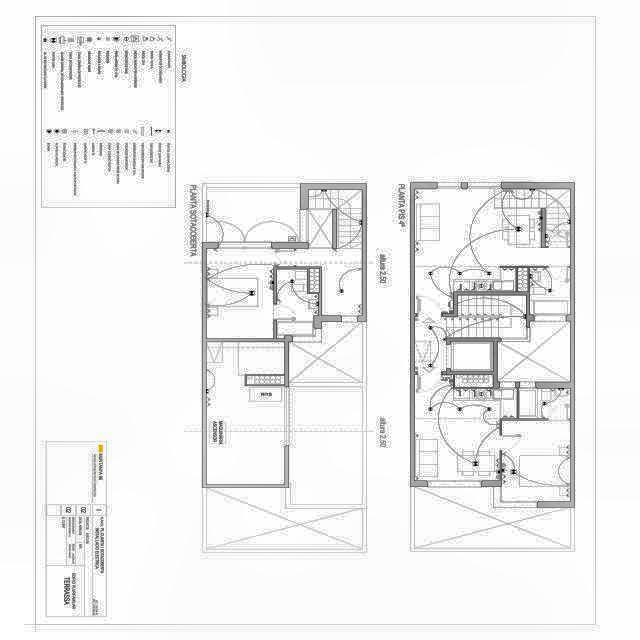room: (206, 190, 362, 339), (415, 189, 570, 313), (206, 342, 285, 485), (415, 375, 517, 481), (415, 295, 526, 372), (502, 420, 570, 501), (497, 316, 570, 382), (277, 269, 318, 321), (530, 267, 570, 315), (519, 382, 570, 419), (455, 375, 493, 387), (247, 376, 285, 385), (309, 268, 320, 293), (518, 268, 528, 292)
